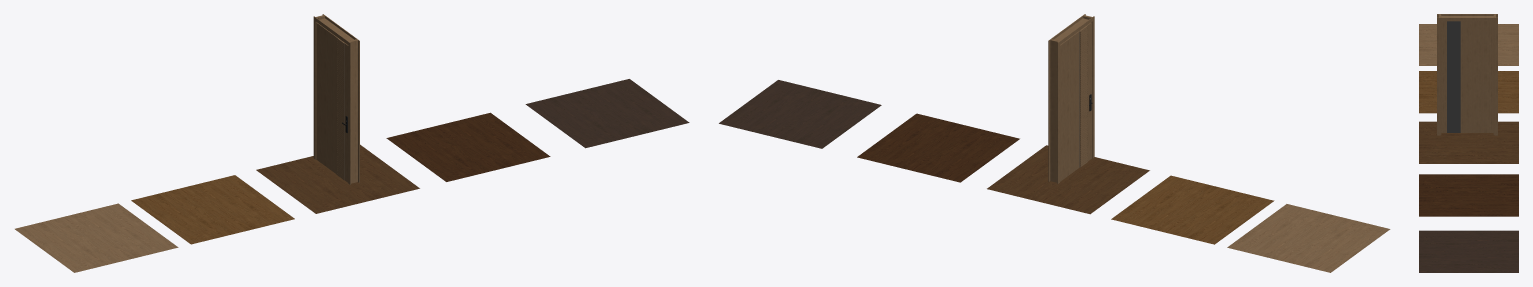
The model's file is DOOR_V3.gltf.
3 views of the same model, side by side, from view 1: azimuth 30°, elevation 25°; view 2: azimuth 150°, elevation 25°; view 3: azimuth 270°, elevation 25° (orthographic). The views are drawn at different scales.
Visible parts, largest first — view 1: door, ttttttt.002, ttttttt.001, tttt.001, ttt.001, tttttt.001; view 2: door, ttt.001, ttttttt.001, ttttttt.002, tttt.001, tttttt.001; view 3: door, tttt.001, ttt.001, tttttt.001, ttttttt.001, ttttttt.002.
Part boxes in pixels (x1,y1,x2,y2): door: (313,14,359,184); ttttttt.002: (15,203,178,272); ttttttt.001: (131,175,294,244); tttt.001: (525,79,689,148); ttt.001: (386,112,550,181); tttttt.001: (256,144,419,213); door: (1048,14,1094,183); ttt.001: (857,113,1019,182); ttttttt.001: (1111,175,1274,244); ttttttt.002: (1227,204,1390,272); tttt.001: (719,80,881,148); tttttt.001: (987,145,1149,214); door: (1437,14,1497,135); tttt.001: (1419,230,1518,272); ttt.001: (1419,174,1518,216); tttttt.001: (1419,121,1518,163); ttttttt.001: (1419,71,1518,113); ttttttt.002: (1419,24,1518,65).
Size of the model in its own units: 11.8 by 2.78 by 2.
8 materials, 7 textured.
